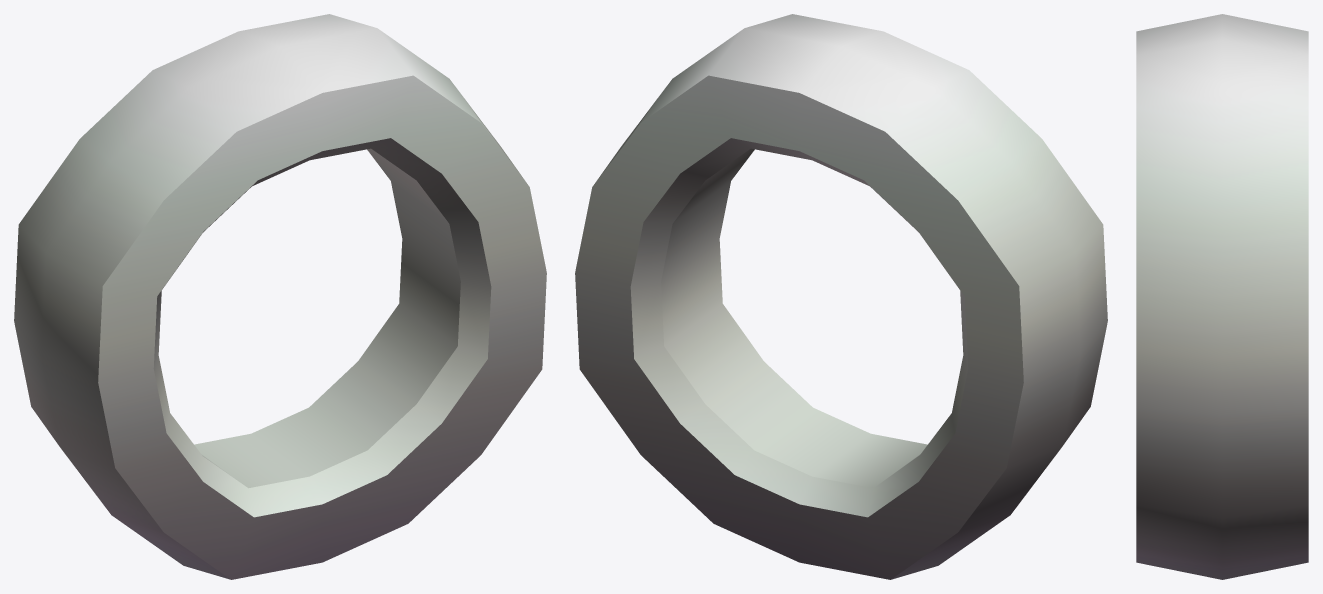
Rendered from Silver_Ring_01.glb.
3 views of the same model, side by side, from view 1: azimuth 30°, elevation 25°; view 2: azimuth 150°, elevation 25°; view 3: azimuth 270°, elevation 25° (orthographic). The views are drawn at different scales.
Visible parts, largest first — view 1: Silver_Ring_01; view 2: Silver_Ring_01; view 3: Silver_Ring_01.
Part boxes in pixels (x1,y1,x2,y2): Silver_Ring_01: [14, 14, 546, 579]; Silver_Ring_01: [575, 14, 1107, 579]; Silver_Ring_01: [1136, 14, 1308, 579].
Size of the model in its own units: 0.4853 by 0.4853 by 0.1478.
Materials: 1 (1 with a texture image).
